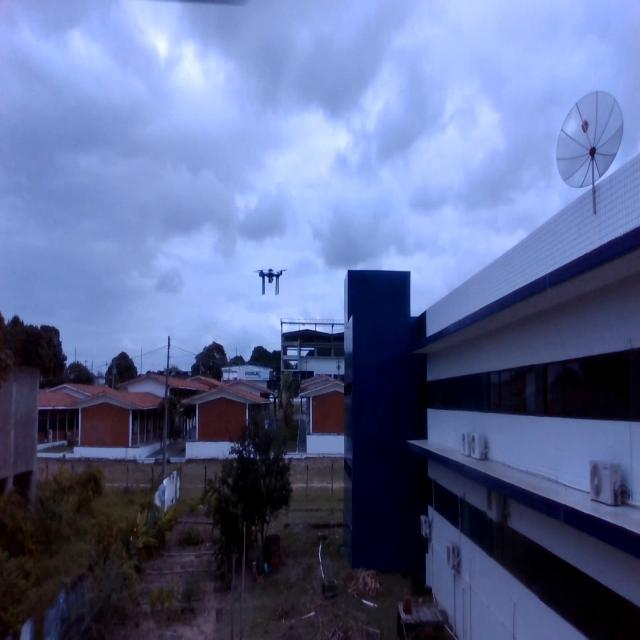-uav-: (250, 259, 289, 304)
